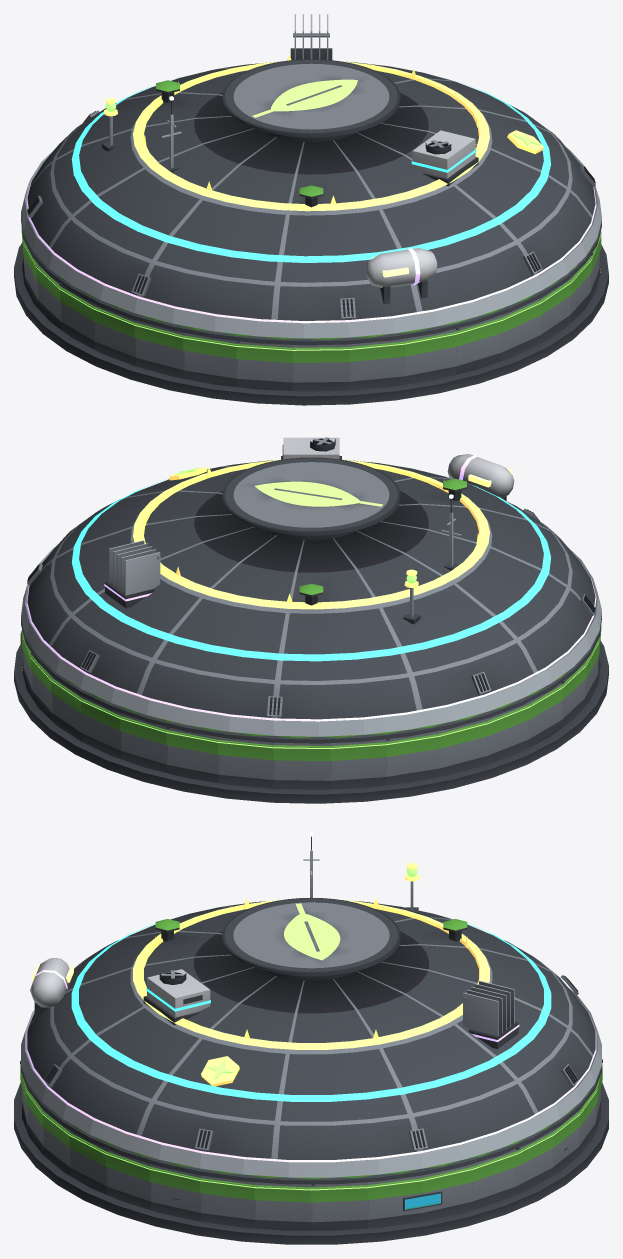
File: fungus_farm_m.glb
3 renders of one model, top to bottom at view 1: azimuth 30°, elevation 25°; view 2: azimuth 150°, elevation 25°; view 3: azimuth 270°, elevation 25°, orthographic.
Parts seen in each view (by area): view 1: Roof, Base, L3, L5, L4, Wall_21, Wall_20, Wall_22, Wall_19, Wall_23, Wall_18, Wall_24 (+17 smaller); view 2: Roof, Base, L3, L5, L4, Wall_10, Wall_11, Wall_09, Wall_12, Wall_08, Wall_13, Wall_07 (+19 smaller); view 3: Roof, Base, L3, L5, L4, Wall_00, Wall_31, Wall_30, Wall_29, Wall_01, Wall_02, Wall_28 (+17 smaller).
Boxes of the visible parts, x1=… form: Roof: x1=21, y1=59, x2=601, y2=345; Base: x1=14, y1=242, x2=608, y2=405; L3: x1=71, y1=78, x2=551, y2=262; L5: x1=102, y1=54, x2=543, y2=211; L4: x1=290, y1=14, x2=437, y2=304; Wall_21: x1=292, y1=344, x2=349, y2=391; Wall_20: x1=236, y1=340, x2=292, y2=390; Wall_22: x1=349, y1=339, x2=404, y2=390; Wall_19: x1=183, y1=332, x2=236, y2=386; Wall_23: x1=404, y1=329, x2=456, y2=384; Wall_18: x1=134, y1=320, x2=183, y2=378; Wall_24: x1=456, y1=315, x2=502, y2=374; Roof: x1=21, y1=457, x2=601, y2=743; Base: x1=14, y1=640, x2=608, y2=803; L3: x1=71, y1=437, x2=550, y2=661; L5: x1=133, y1=459, x2=489, y2=624; L4: x1=104, y1=454, x2=514, y2=608; Wall_10: x1=273, y1=742, x2=330, y2=789; Wall_11: x1=330, y1=739, x2=386, y2=789; Wall_09: x1=218, y1=737, x2=273, y2=788; Wall_12: x1=386, y1=731, x2=439, y2=785; Wall_08: x1=166, y1=726, x2=218, y2=782; Wall_13: x1=439, y1=719, x2=488, y2=776; Wall_07: x1=120, y1=713, x2=166, y2=772; Roof: x1=21, y1=897, x2=601, y2=1184; Base: x1=14, y1=1082, x2=608, y2=1244; L3: x1=71, y1=923, x2=551, y2=1101; L5: x1=133, y1=863, x2=489, y2=1086; L4: x1=30, y1=958, x2=519, y2=1048; Wall_00: x1=311, y1=1182, x2=368, y2=1230; Wall_31: x1=254, y1=1182, x2=311, y2=1230; Wall_30: x1=200, y1=1175, x2=254, y2=1228; Wall_29: x1=149, y1=1164, x2=200, y2=1221; Wall_01: x1=368, y1=1175, x2=422, y2=1228; Wall_02: x1=422, y1=1164, x2=473, y2=1221; Wall_28: x1=105, y1=1147, x2=150, y2=1209.
Bounding box in the file's own units: 14.75 × 5.95 × 14.75.
